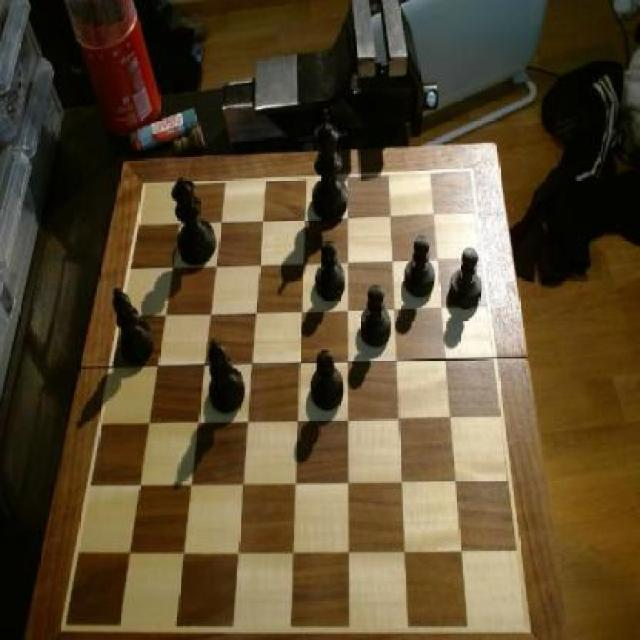bishop: (109, 286, 156, 368), (205, 337, 248, 419)
black-bishop: (306, 111, 349, 227)
black-knight: (310, 346, 346, 413), (401, 235, 437, 301), (448, 247, 482, 316), (360, 283, 393, 350), (317, 238, 348, 301)
black-pawn: (170, 175, 216, 268)
